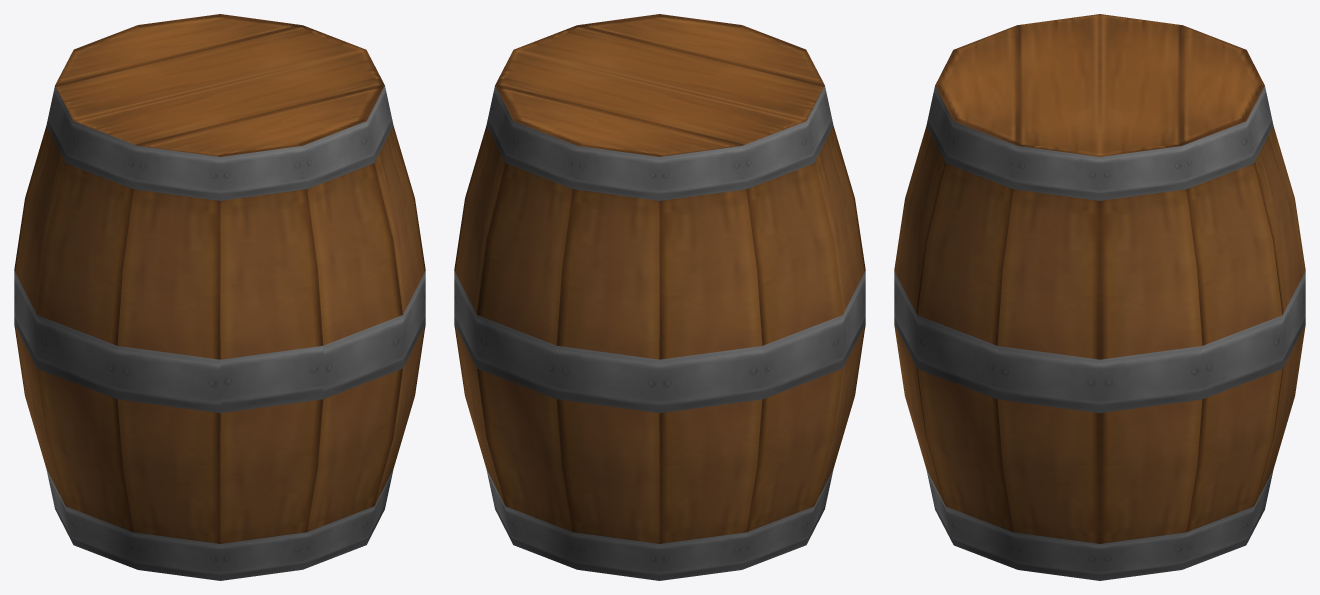
The model's file is outdoorM_barrel_a.FBX.
The picture shows the model from 3 angles, left to right: view 1: azimuth 30°, elevation 25°; view 2: azimuth 150°, elevation 25°; view 3: azimuth 270°, elevation 25°; orthographic projection.
Visible parts, largest first — view 1: outdoorM_barrel_a; view 2: outdoorM_barrel_a; view 3: outdoorM_barrel_a.
Boxes of the visible parts, x1,y1,x2,y2 form: outdoorM_barrel_a: (14, 14, 425, 580); outdoorM_barrel_a: (454, 14, 865, 580); outdoorM_barrel_a: (894, 14, 1305, 580).
Bounding box in the file's own units: 7.86 × 8.71 × 7.67.
